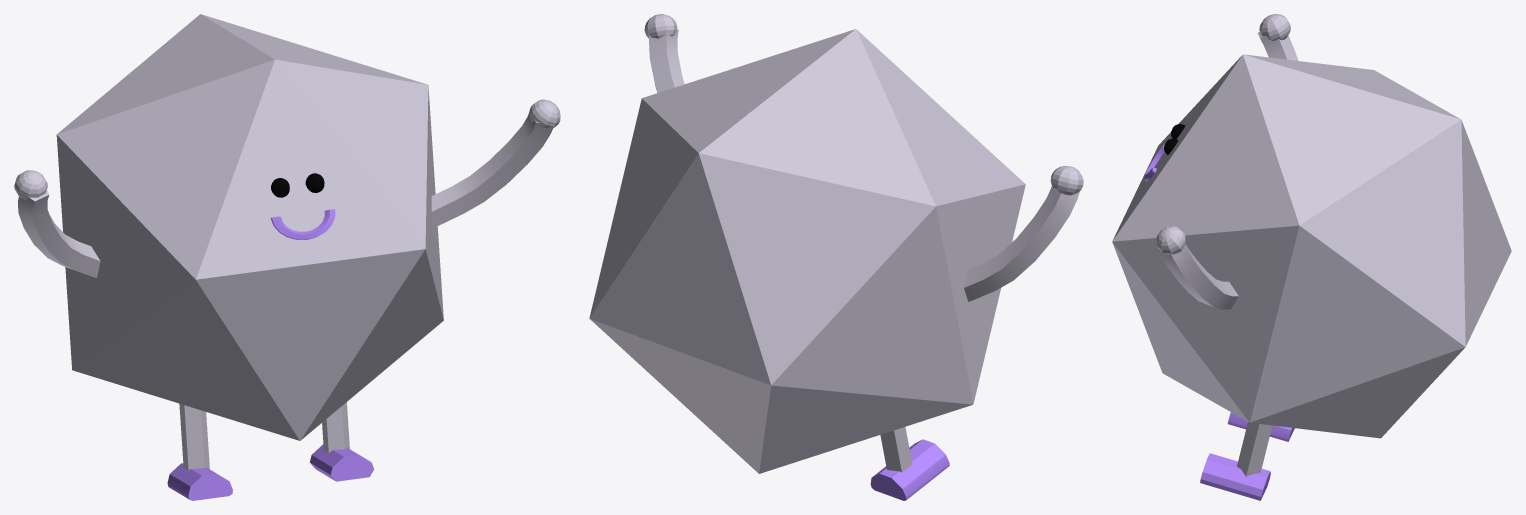
Rendered from mascot.glb.
3 renders of one model, left to right at view 1: azimuth 30°, elevation 25°; view 2: azimuth 150°, elevation 25°; view 3: azimuth 270°, elevation 25°, orthographic. The views are drawn at different scales.
Parts seen in each view (by area): view 1: pPlatonic1, pCylinder1, pCylinder2, pCylinder5, pCylinder3, pCylinder6, pCylinder4, pSphere3, pTorus1, pSphere4; view 2: pPlatonic1, pCylinder2, pCylinder5, pCylinder1, pCylinder3, pSphere3, pSphere4; view 3: pPlatonic1, pCylinder1, pCylinder6, pCylinder4, pSphere4, pSphere3, pCylinder2, pCylinder5.
Part boxes in pixels (x1,y1,x2,y2): pPlatonic1: (56, 14, 443, 440); pCylinder1: (431, 110, 553, 227); pCylinder2: (18, 189, 100, 277); pCylinder5: (167, 463, 232, 500); pCylinder3: (179, 403, 209, 470); pCylinder6: (310, 444, 374, 481); pCylinder4: (322, 402, 349, 452); pSphere3: (14, 170, 47, 200); pTorus1: (270, 209, 335, 239); pSphere4: (529, 99, 560, 128); pPlatonic1: (589, 29, 1025, 473); pCylinder2: (964, 186, 1079, 301); pCylinder5: (870, 439, 949, 500); pCylinder1: (649, 29, 684, 92); pCylinder3: (880, 427, 912, 472); pSphere3: (1050, 165, 1083, 195); pSphere4: (644, 14, 677, 38); pPlatonic1: (1112, 54, 1511, 438); pCylinder1: (1156, 244, 1238, 309); pCylinder6: (1200, 453, 1270, 500); pCylinder4: (1237, 422, 1272, 476); pSphere4: (1156, 226, 1185, 254); pSphere3: (1259, 14, 1290, 41); pCylinder2: (1258, 31, 1298, 60); pCylinder5: (1227, 412, 1294, 441).
Bounding box in the file's own units: 0.1355 × 0.1149 × 0.102.
